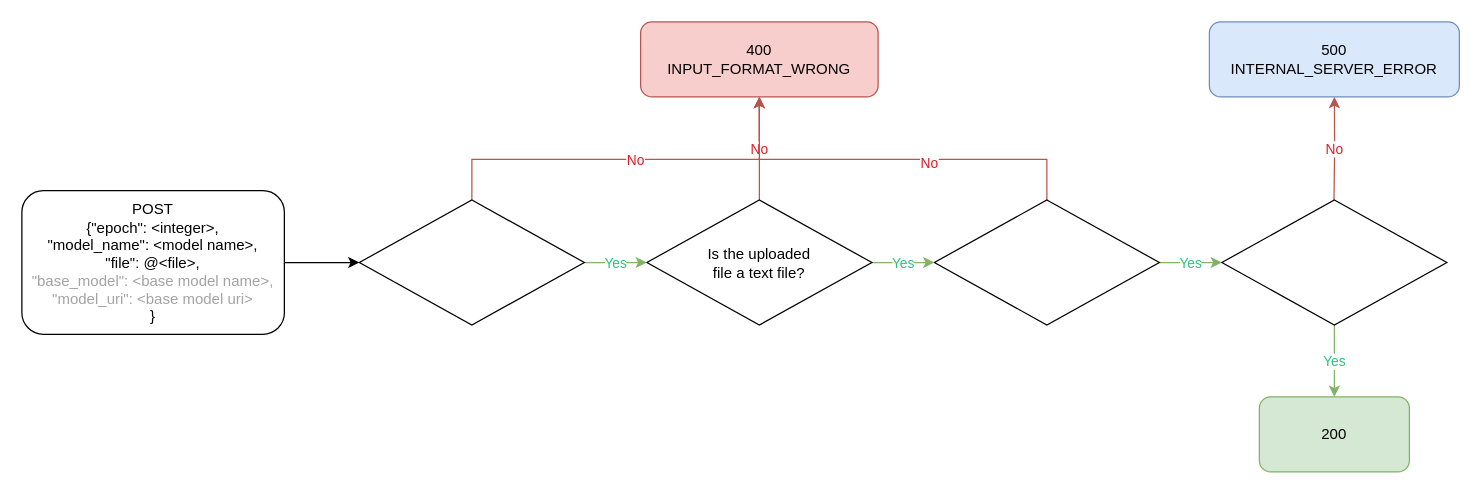
The diagram is 1481 pixels wide and 494 high, and some of its shapes have lost their labels. Each missing label, with the centre of its shape:
"Is the language of the base model English or German?" belongs at point 1046,262.
"Is the number of epochs between 1 and 4000?" belongs at point 471,262.
"Upload Successful?" belongs at point 1334,262.
